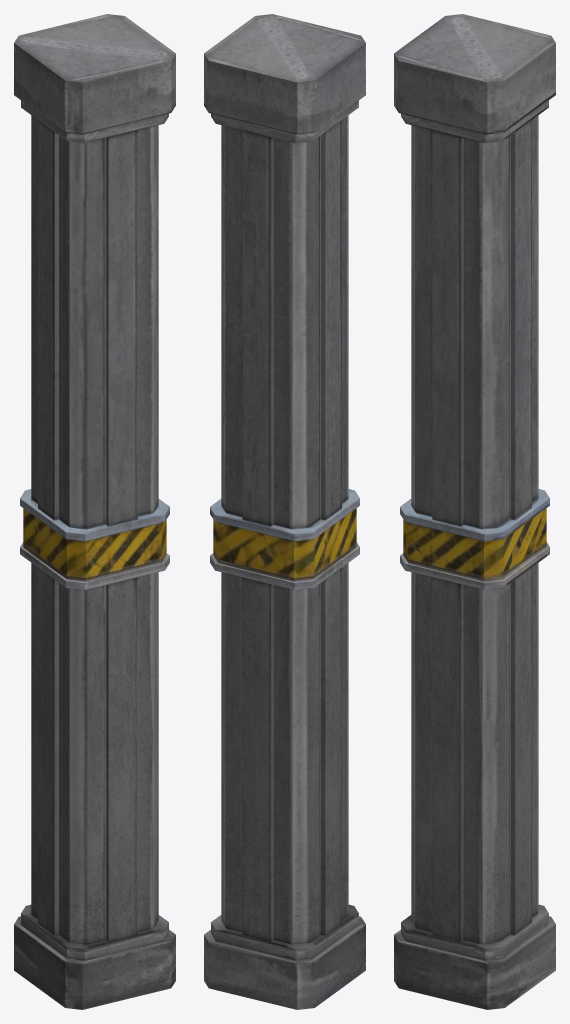
The model's file is kit_pillar.glb.
3 views of the same model, side by side, from view 1: azimuth 30°, elevation 25°; view 2: azimuth 150°, elevation 25°; view 3: azimuth 330°, elevation 25° (orthographic).
Visible parts, largest first — view 1: kit_pillar.001; view 2: kit_pillar.001; view 3: kit_pillar.001.
Part boxes in pixels (x1=…): kit_pillar.001: x1=14, y1=14, x2=175, y2=1009; kit_pillar.001: x1=204, y1=14, x2=365, y2=1009; kit_pillar.001: x1=394, y1=14, x2=555, y2=1009.
Size of the model in its own units: 1 by 8 by 1.
3 materials, 3 textured.
